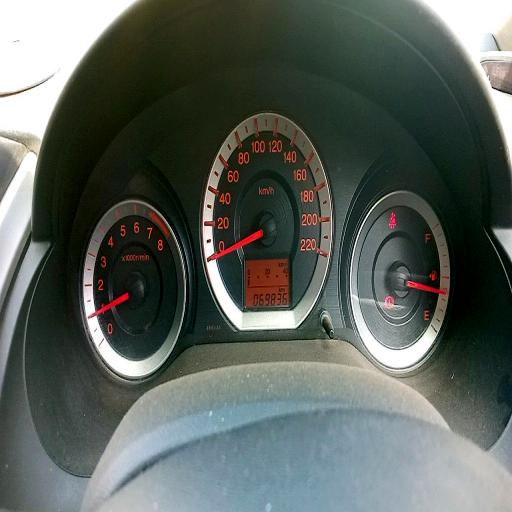belt: (389, 211, 396, 229)
brake_system_fault: (385, 296, 394, 309)
tachometer: (84, 198, 186, 377)
